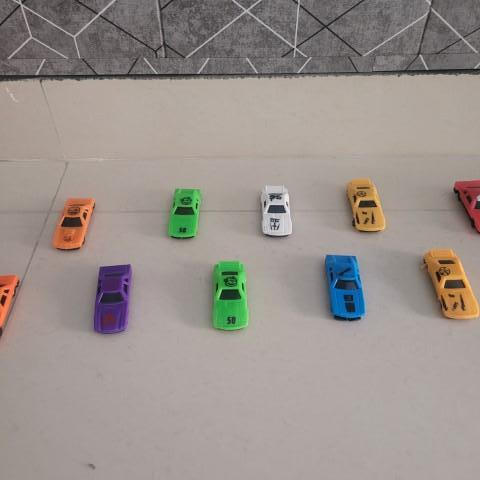car: (421, 242, 479, 323), (321, 250, 371, 322), (211, 260, 253, 332), (95, 262, 135, 336), (49, 197, 97, 253), (252, 182, 295, 240), (344, 177, 388, 233), (167, 186, 204, 241)
